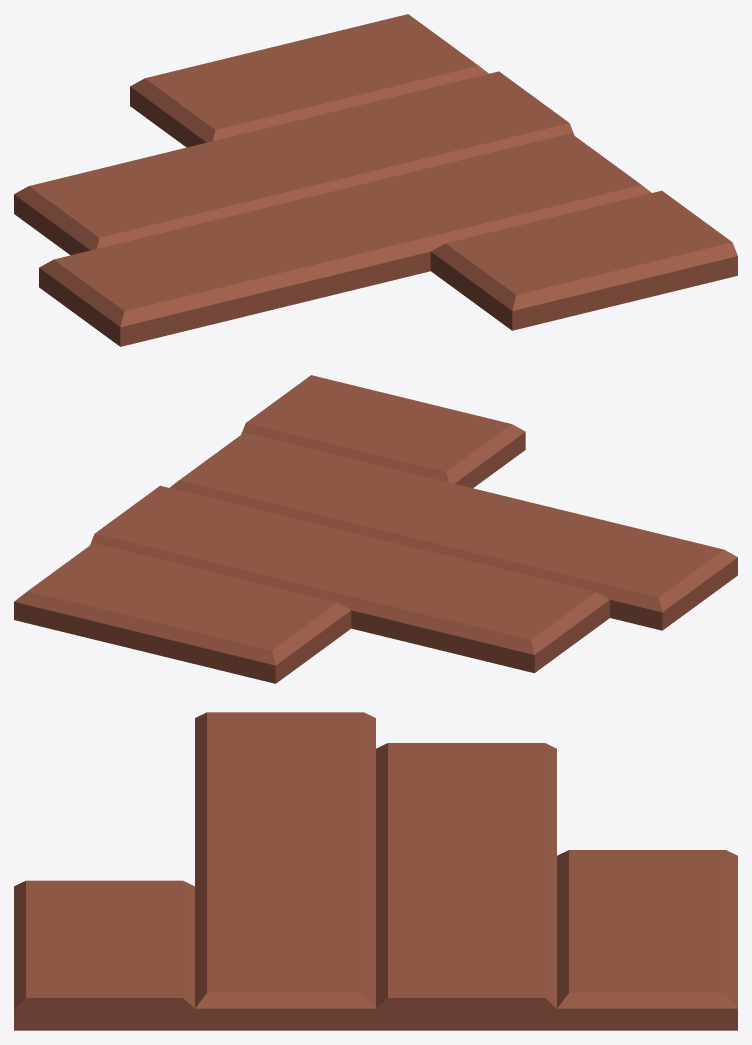
File: floorDecoration_woodLeft.fbx
The picture shows the model from 3 angles, top to bottom: view 1: azimuth 30°, elevation 25°; view 2: azimuth 150°, elevation 25°; view 3: azimuth 270°, elevation 25°; orthographic projection. The views are drawn at different scales.
Parts seen in each view (by area): view 1: floorDecoration_woodLeft; view 2: floorDecoration_woodLeft; view 3: floorDecoration_woodLeft.
Boxes of the visible parts, x1,y1,x2,y2 form: floorDecoration_woodLeft: (14,14,737,346); floorDecoration_woodLeft: (14,375,737,683); floorDecoration_woodLeft: (14,712,737,1030).
Bounding box in the file's own units: 190 × 10 × 200.
